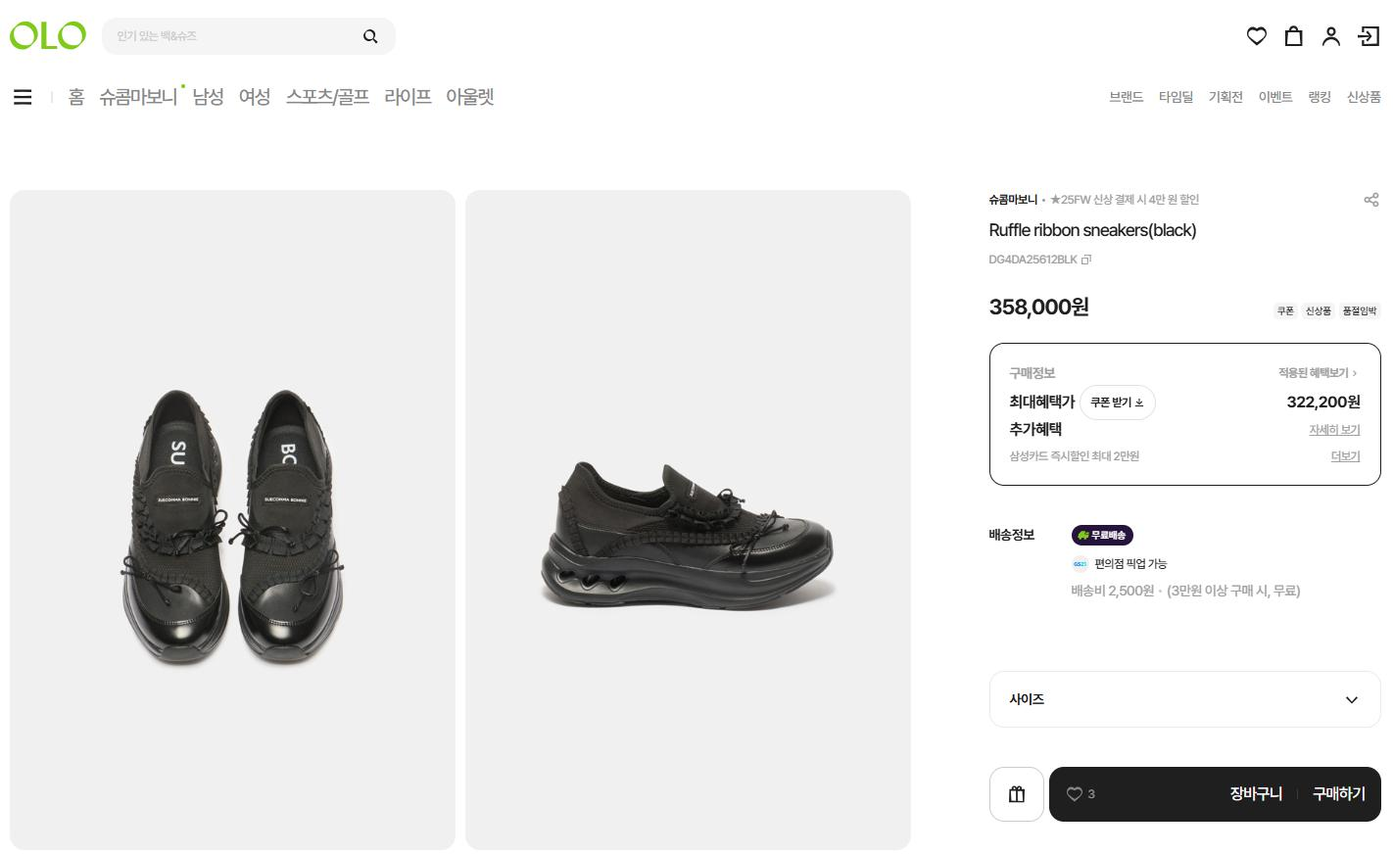button: (989, 770, 1046, 815), (105, 82, 180, 114), (1212, 782, 1285, 814), (289, 83, 373, 110), (1085, 389, 1149, 416), (1318, 787, 1381, 813), (383, 84, 425, 111), (61, 82, 94, 115), (195, 87, 230, 113), (451, 86, 492, 107), (1310, 422, 1360, 438), (1240, 23, 1269, 50), (1345, 89, 1381, 108), (239, 93, 287, 107), (1303, 84, 1330, 107), (1364, 185, 1389, 209), (1318, 28, 1346, 49), (1256, 93, 1296, 107), (1364, 24, 1386, 49), (1106, 92, 1146, 105), (1211, 89, 1244, 104), (1162, 92, 1199, 104), (1329, 452, 1363, 465), (1285, 26, 1302, 51)
checkbox: (988, 673, 1386, 726)
input_field: (100, 16, 398, 58)
